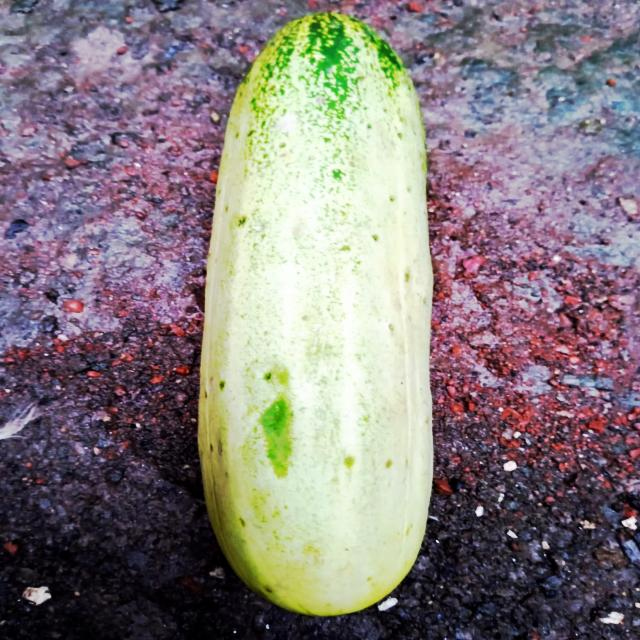Fresh-Cucumber: (192, 7, 438, 620)
